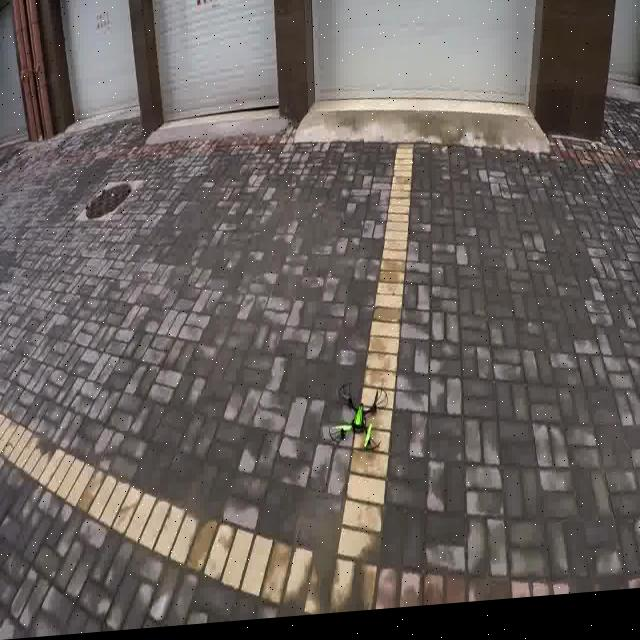drone: (296, 366, 422, 496)
